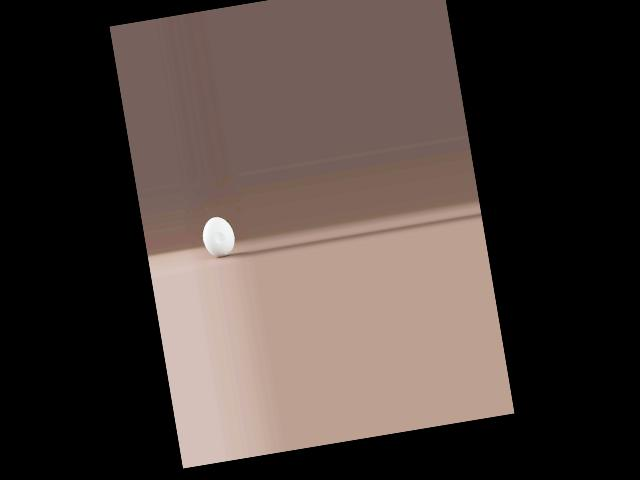egg: (200, 214, 237, 259)
